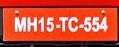1: (36, 16, 46, 34)
4: (98, 16, 109, 33)
5: (45, 16, 55, 33), (82, 16, 92, 33), (91, 16, 100, 33)
C: (67, 16, 78, 33)
H: (25, 16, 38, 33)
M: (13, 17, 27, 32)
T: (58, 16, 69, 33)
